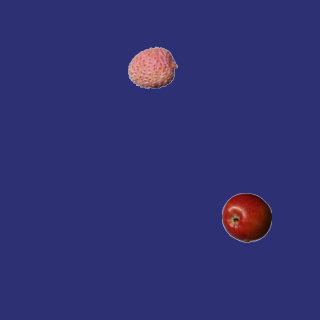Apple Braeburn: (221, 192, 271, 242)
Lychee: (127, 42, 177, 92)
